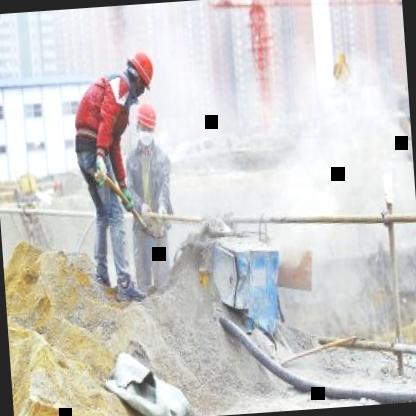helmet: (125, 46, 158, 98), (129, 102, 162, 152)
